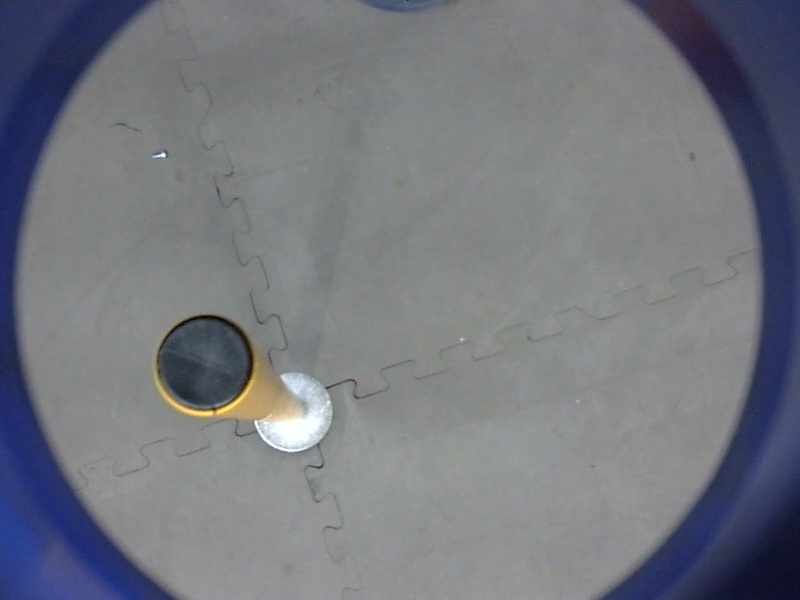tip: (148, 307, 259, 418)
